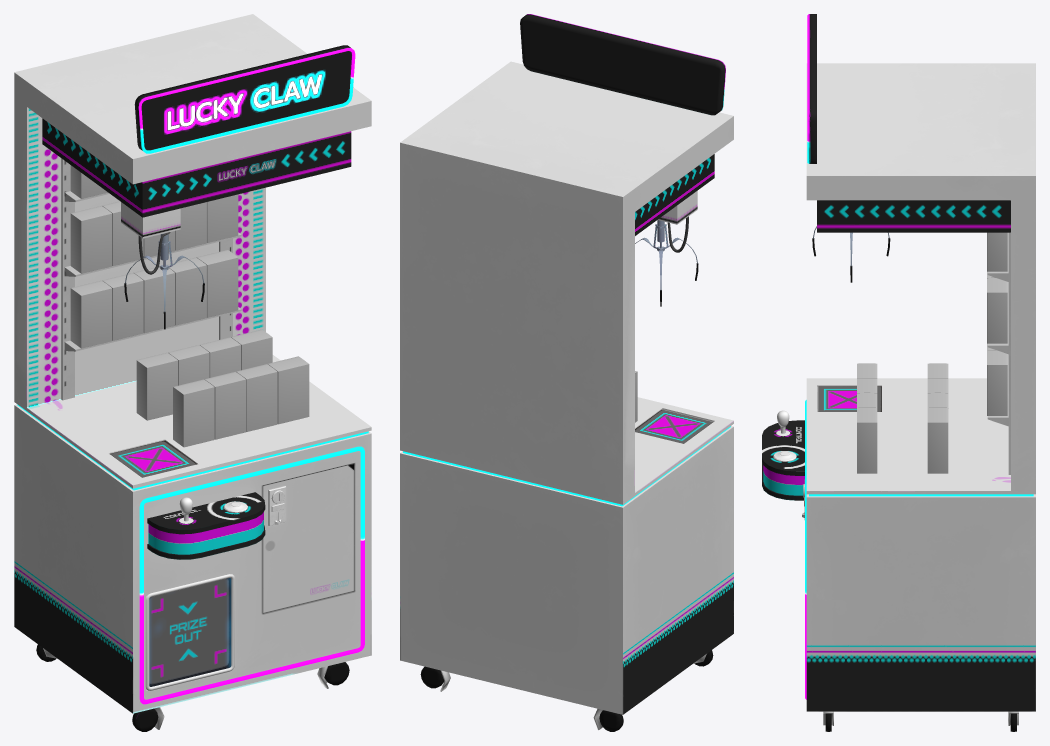
The model's file is Claw Machine.fbx.
3 views of the same model, side by side, from view 1: azimuth 30°, elevation 25°; view 2: azimuth 150°, elevation 25°; view 3: azimuth 270°, elevation 25° (orthographic). The views are drawn at different scales.
Visible parts, largest first — view 1: claw_machine_01, FigureBox1, FigureBox2; view 2: claw_machine_01; view 3: claw_machine_01, FigureBox2, FigureBox1.
Boxes of the visible parts, x1,y1,x2,y2 form: claw_machine_01: (14,14,371,731); FigureBox1: (70,165,238,348); FigureBox2: (136,329,309,447); claw_machine_01: (400,14,733,731); claw_machine_01: (762,14,1035,731); FigureBox2: (857,363,948,473); FigureBox1: (987,232,1007,415).
Bounding box in the file's own units: 85.18 × 219 × 87.53.
